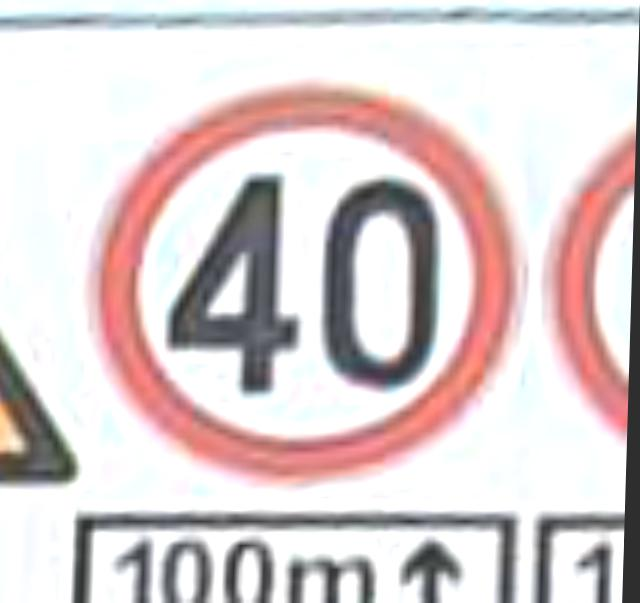limit40: (84, 68, 531, 496)
